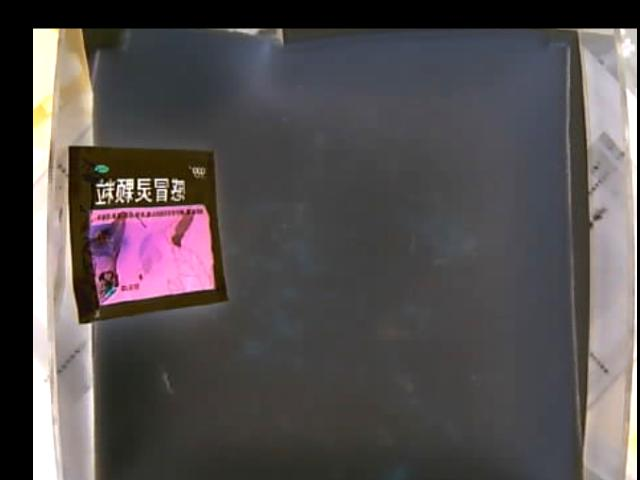Medicine: (64, 142, 233, 321)
